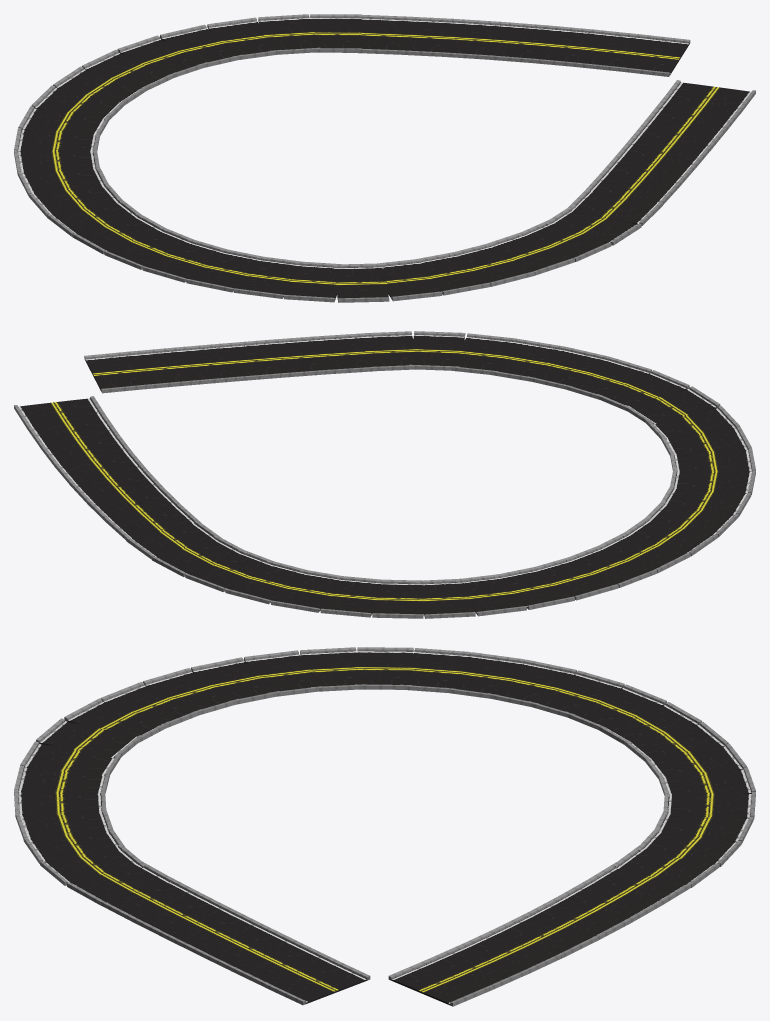
Rendered from Road test.glb.
3 renders of one model, top to bottom at view 1: azimuth 30°, elevation 25°; view 2: azimuth 150°, elevation 25°; view 3: azimuth 270°, elevation 25°, orthographic. The views are drawn at different scales.
Parts seen in each view (by area): view 1: Road model; view 2: Road model; view 3: Road model.
Boxes of the visible parts, x1,y1,x2,y2 form: Road model: (14,14,755,302); Road model: (14,331,755,618); Road model: (14,647,755,1006).
Bounding box in the file's own units: 355 × 2.34 × 313.
Materials: 1 (1 with a texture image).
